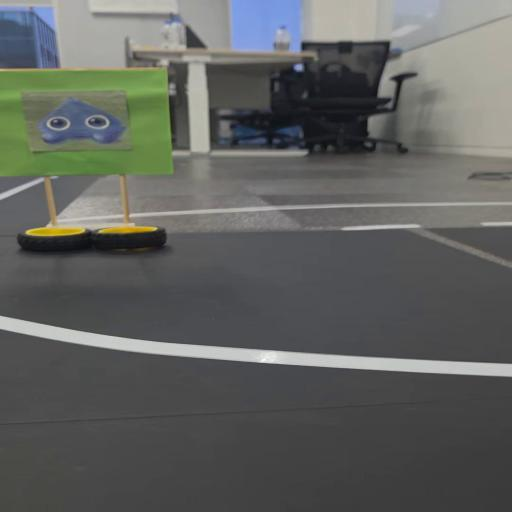Sign_B: (3, 65, 183, 257)
